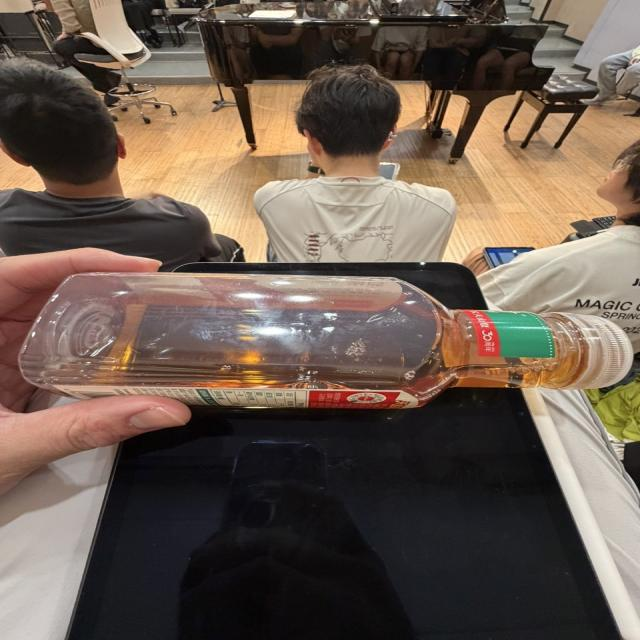medium: (20, 270, 631, 409)
